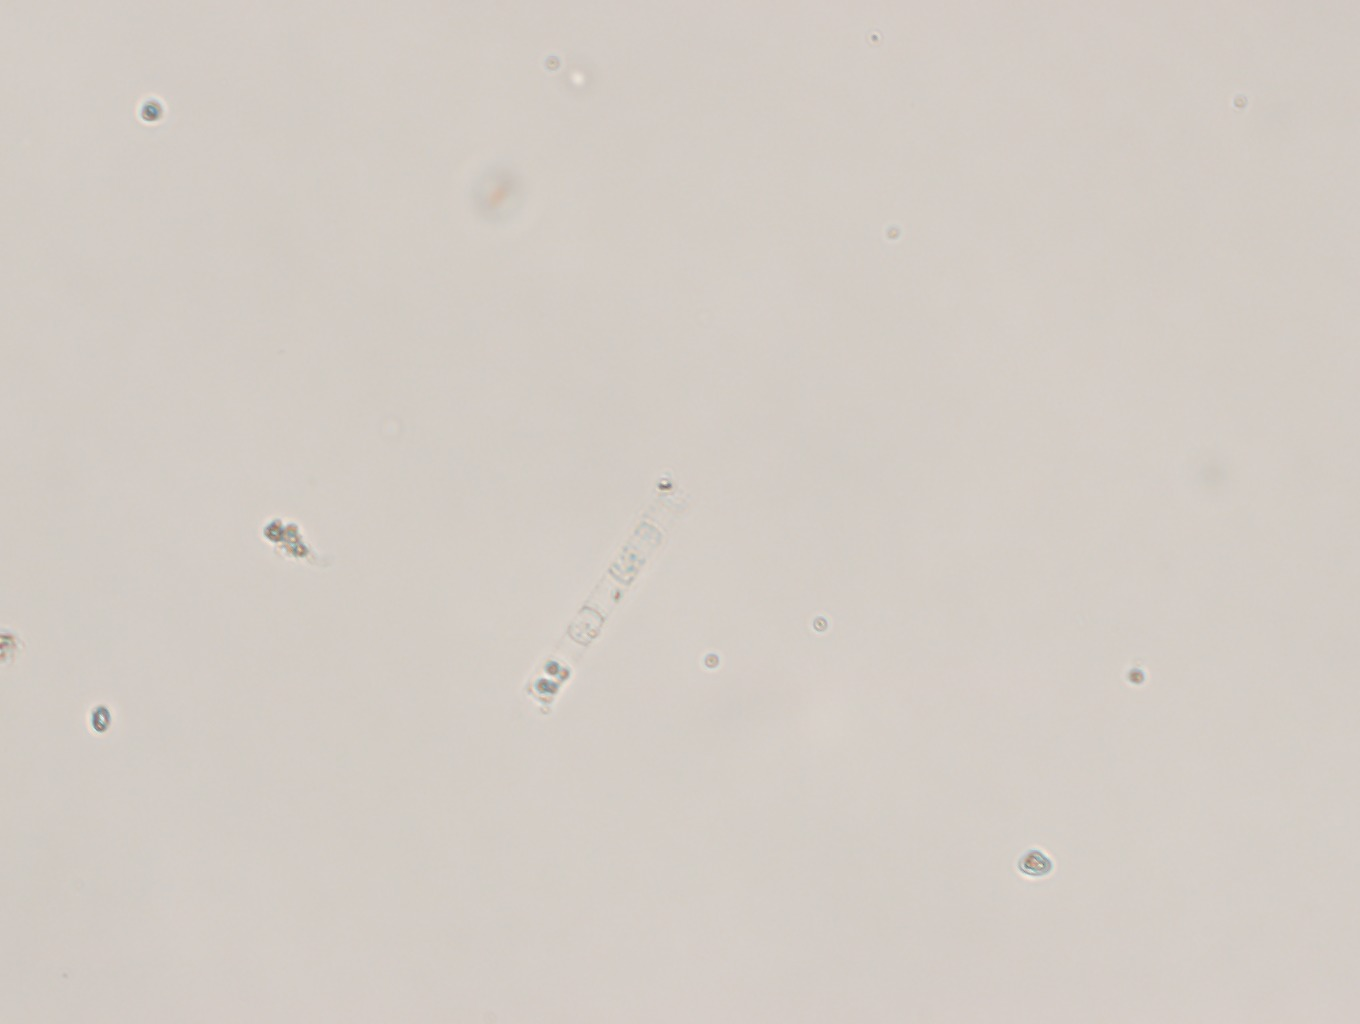skeletonema: (522, 483, 683, 715)
